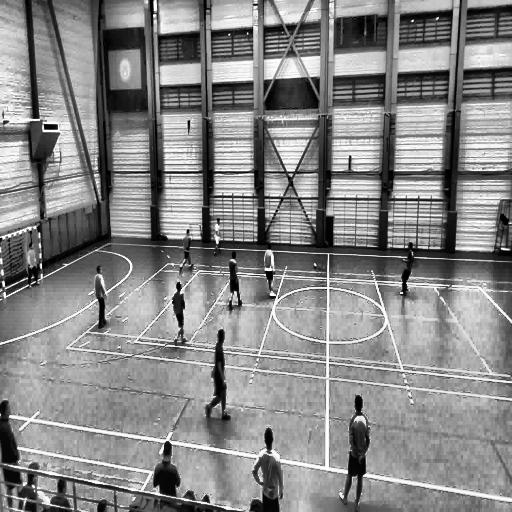ball: (313, 262, 317, 269)
player: (338, 395, 370, 511), (253, 427, 283, 512), (206, 327, 231, 421), (0, 403, 22, 507), (172, 280, 186, 346), (228, 248, 242, 306), (95, 264, 107, 330), (264, 241, 277, 301), (400, 242, 414, 294), (180, 230, 194, 273), (27, 241, 40, 287), (214, 218, 221, 257)
